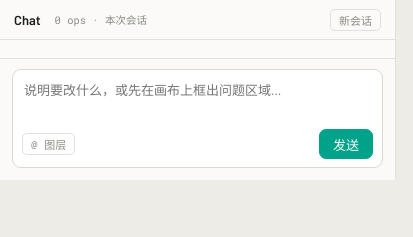
Test: ChatPanel › surfaces a failed session reset instead of rejecting into the void
The width and height of the screenshot is (413, 237).
Step 1. Click the button "新会话" → x=356, y=20, box [330, 8, 381, 30]
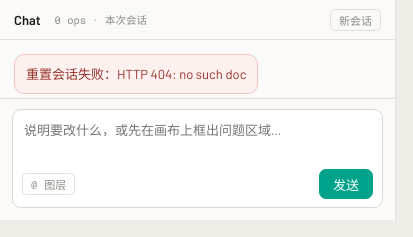
expect the text "重置会话失败：HTTP 404: no such doc" is shown: met, box [26, 64, 246, 84]
